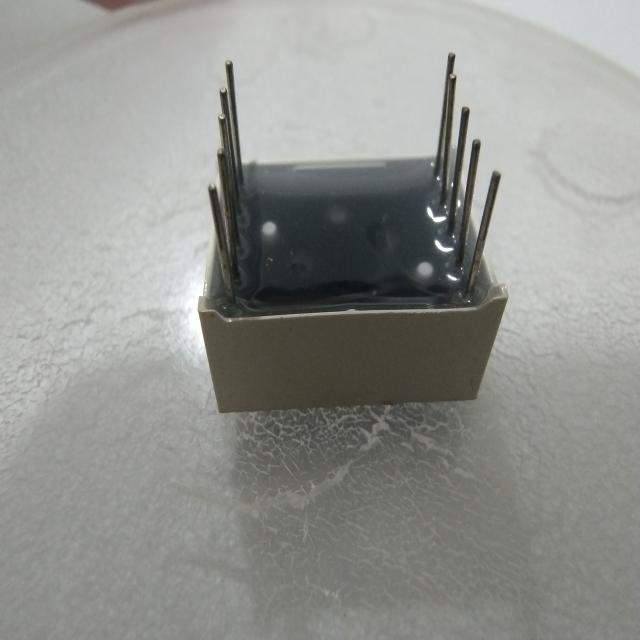7_segments: (182, 43, 516, 427)
